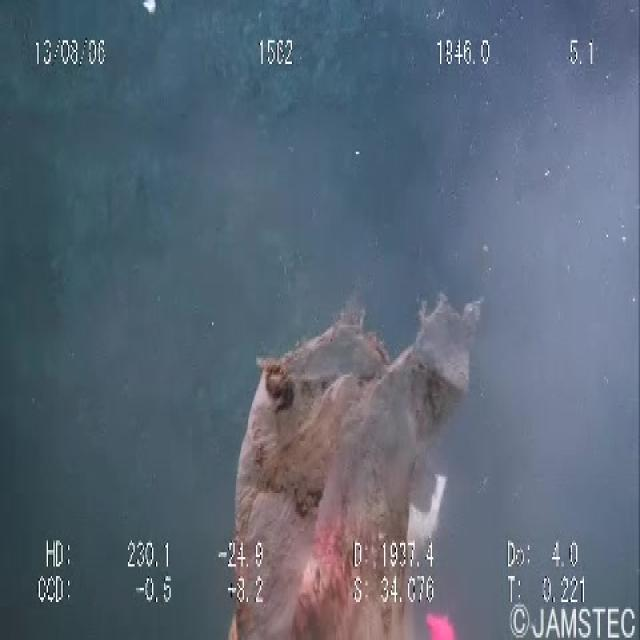plastic: (209, 249, 495, 638)
